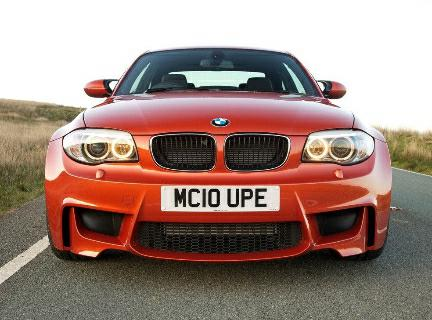宝马-1系M: (38, 41, 399, 269)
